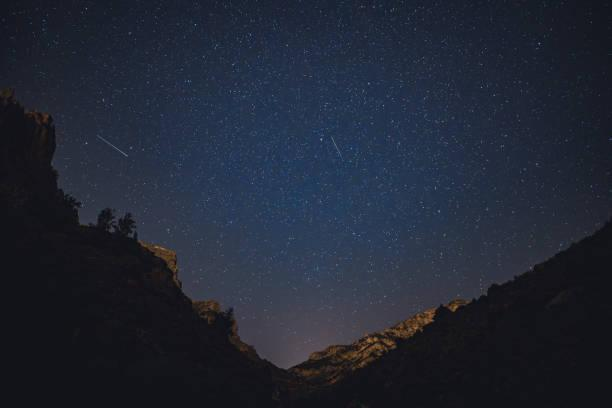meteor: (119, 147, 140, 162), (333, 146, 349, 161)
